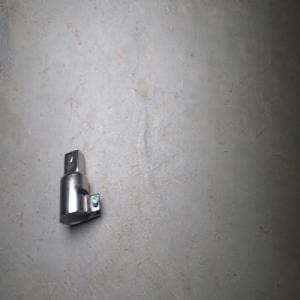MetalPart: (58, 148, 101, 225)
